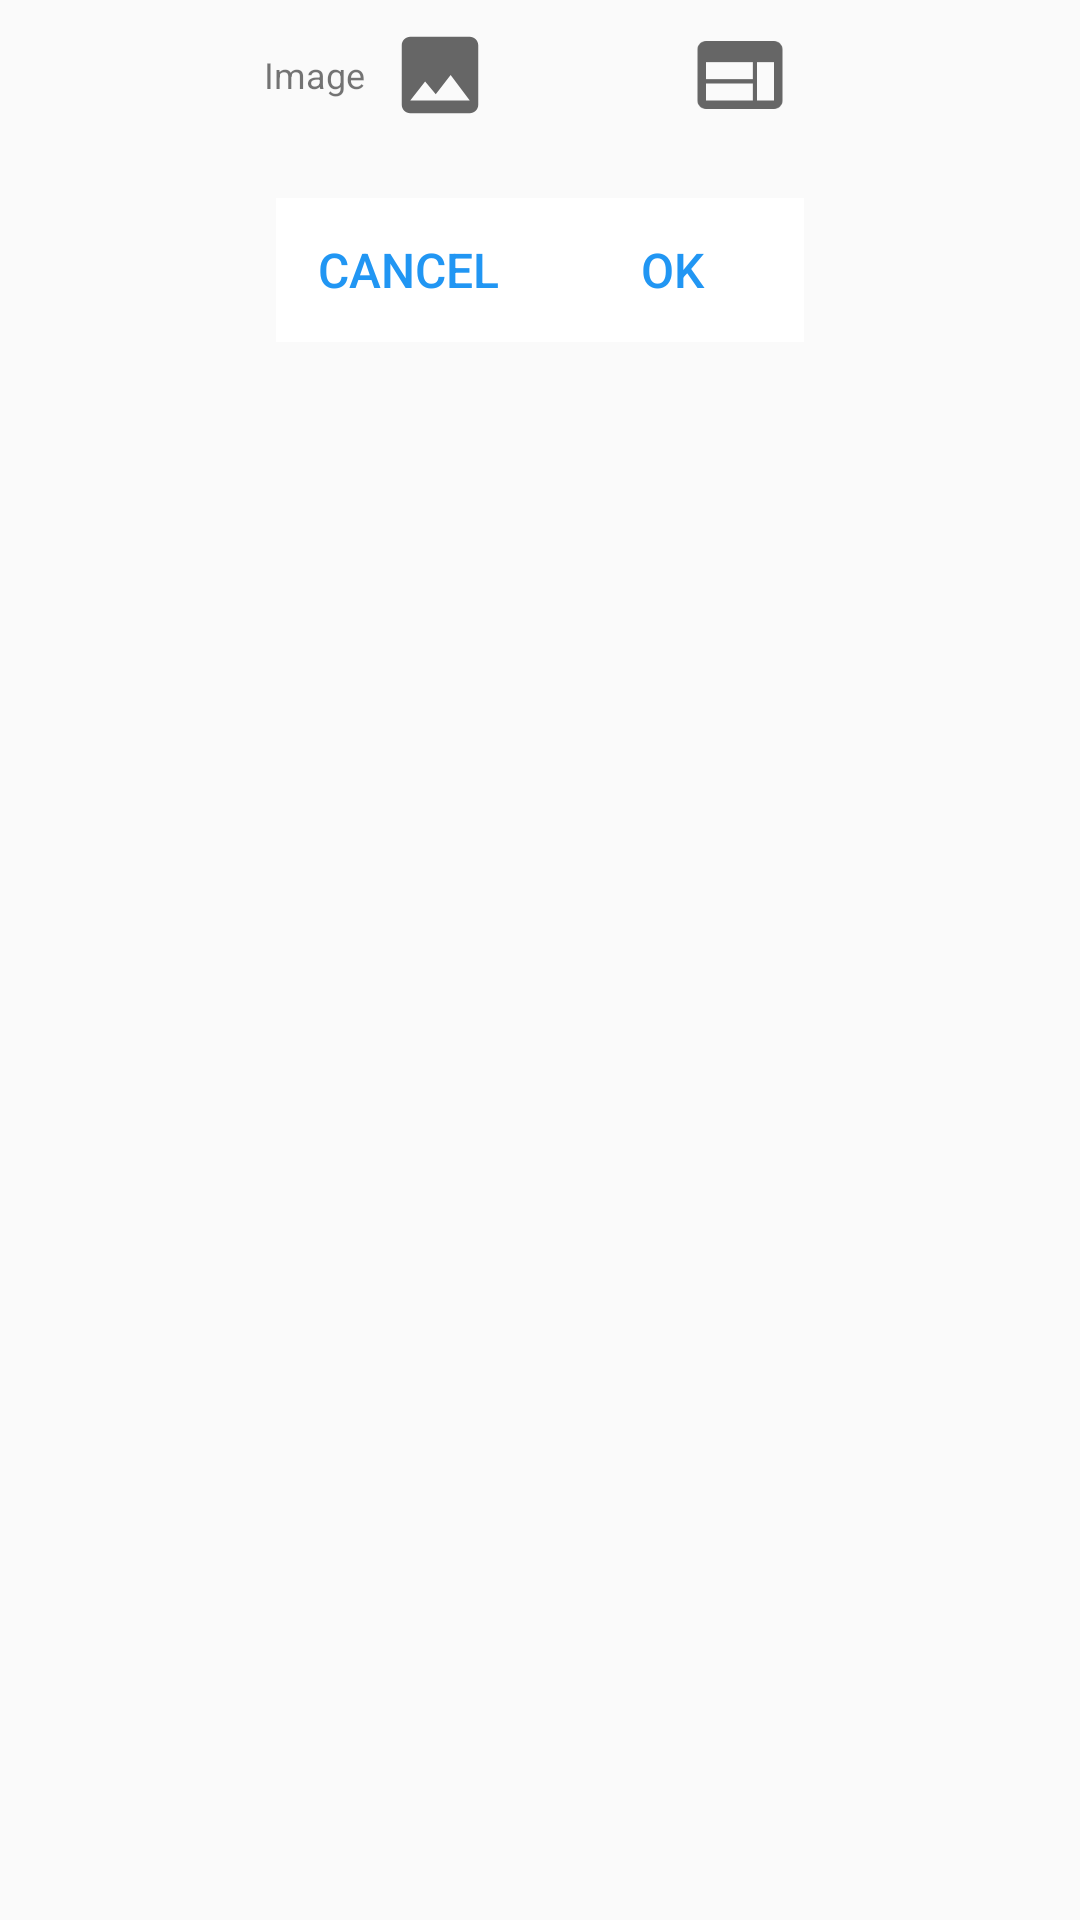

Screen size 1080px×1920px. Icon name, then its box in pixels as [x1=x1, y1=y1, x2=x2, y2=y2]:
Select image from web: [x1=697, y1=41, x2=783, y2=109]
